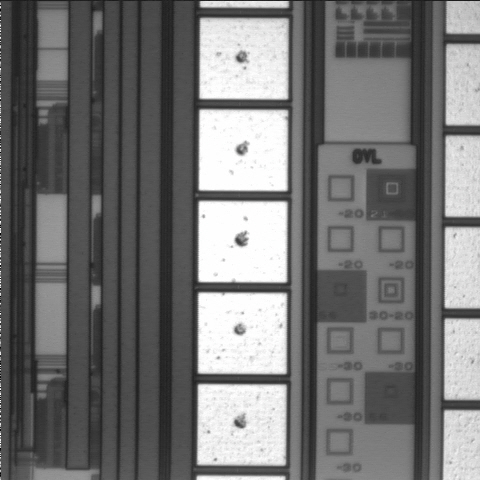pad: (198, 201, 287, 283), (197, 384, 286, 466), (199, 110, 288, 191), (198, 293, 287, 374), (200, 18, 288, 99)
